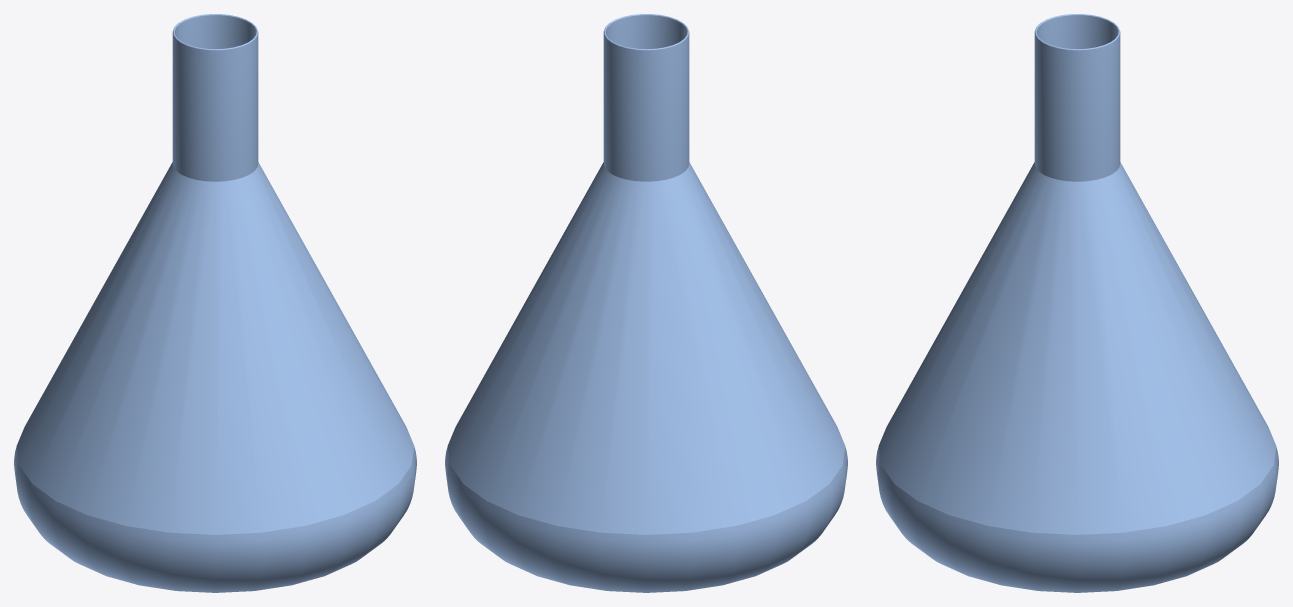
File: beaker+liquid.glb
3 renders of one model, left to right at view 1: azimuth 30°, elevation 25°; view 2: azimuth 150°, elevation 25°; view 3: azimuth 270°, elevation 25°, orthographic.
Visible parts, largest first — view 1: SketchUp; view 2: SketchUp; view 3: SketchUp.
Boxes of the visible parts, bbox=[...] form: SketchUp: bbox=[14, 14, 416, 592]; SketchUp: bbox=[445, 14, 847, 592]; SketchUp: bbox=[876, 14, 1278, 592].
Size of the model in its own units: 2.26 by 3.04 by 2.26.
